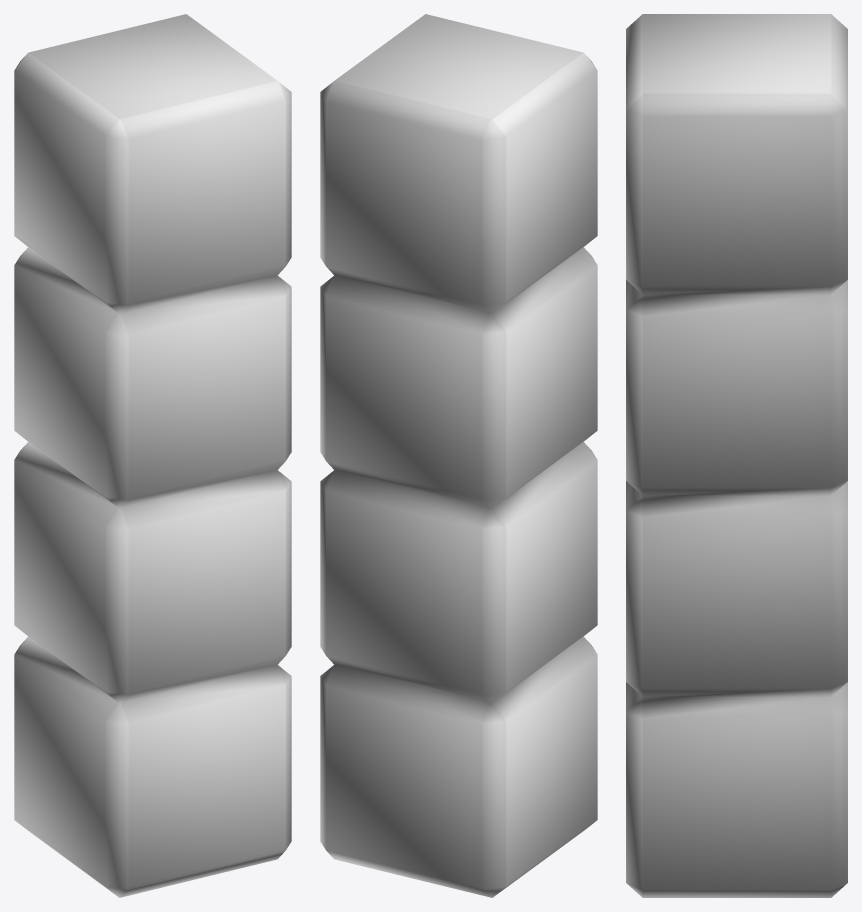
3 renders of one model, left to right at view 1: azimuth 30°, elevation 25°; view 2: azimuth 150°, elevation 25°; view 3: azimuth 270°, elevation 25°, orthographic. The views are drawn at different scales.
Parts seen in each view (by area): view 1: I-shape; view 2: I-shape; view 3: I-shape.
Part boxes in pixels (box(x1,y1,x2,y2)): I-shape: box(14, 14, 291, 897); I-shape: box(320, 14, 597, 897); I-shape: box(626, 14, 847, 897).
Bounding box in the file's own units: 1 × 4 × 1.
